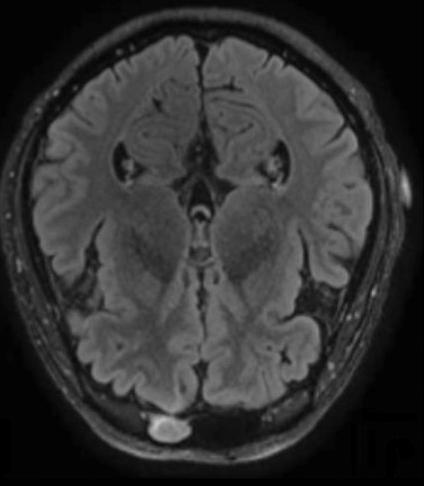Normal_Brain: (1, 1, 424, 486)
